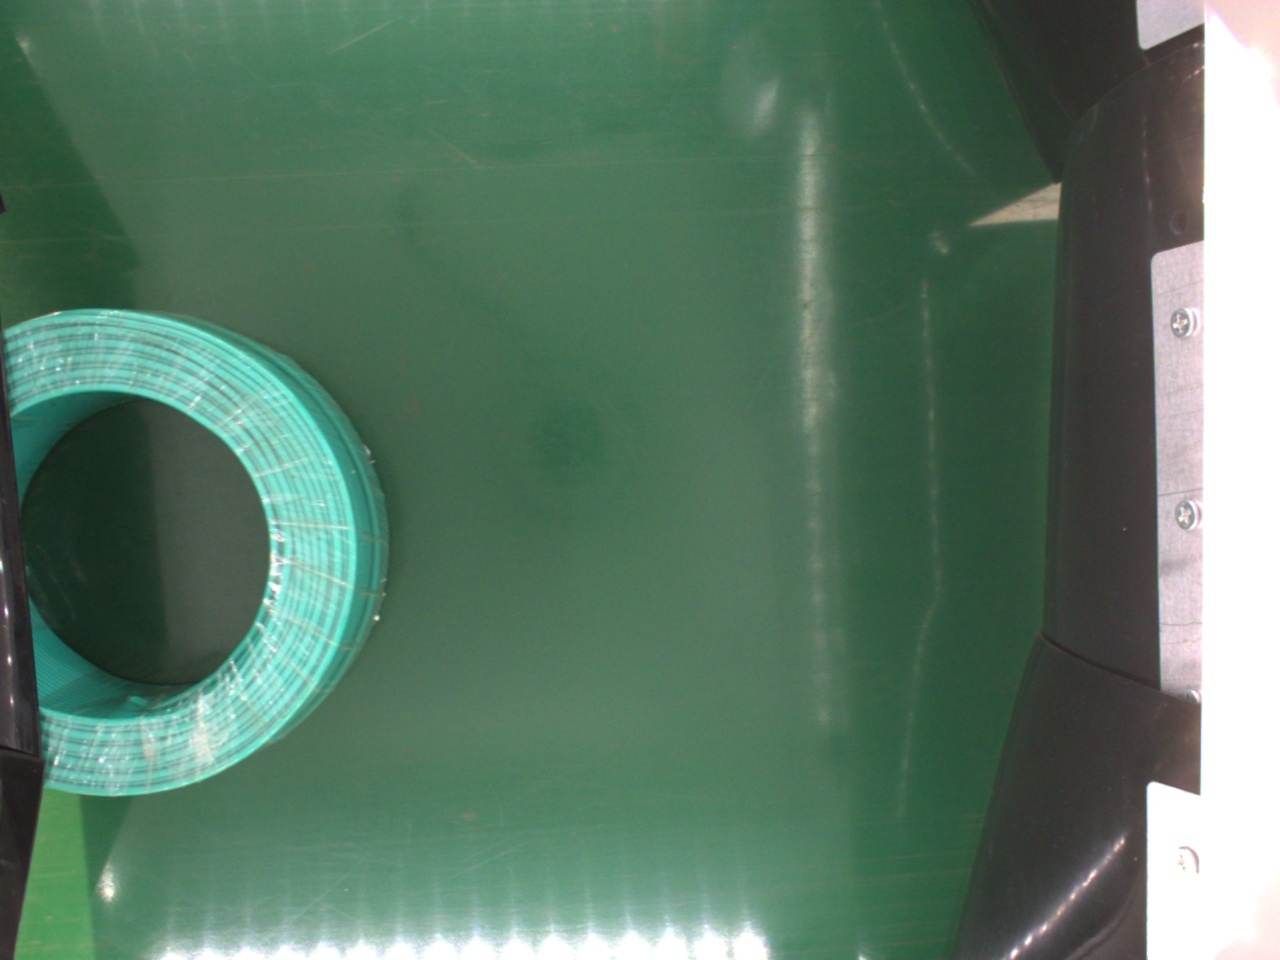green: (5, 309, 390, 797)
